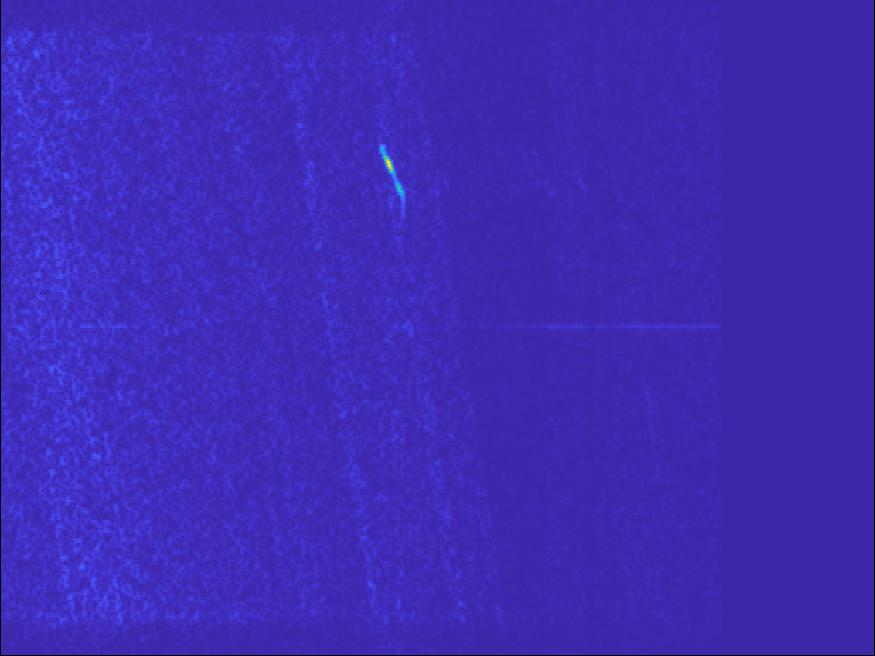Interference: (671, 22, 802, 83), (38, 109, 183, 146)
